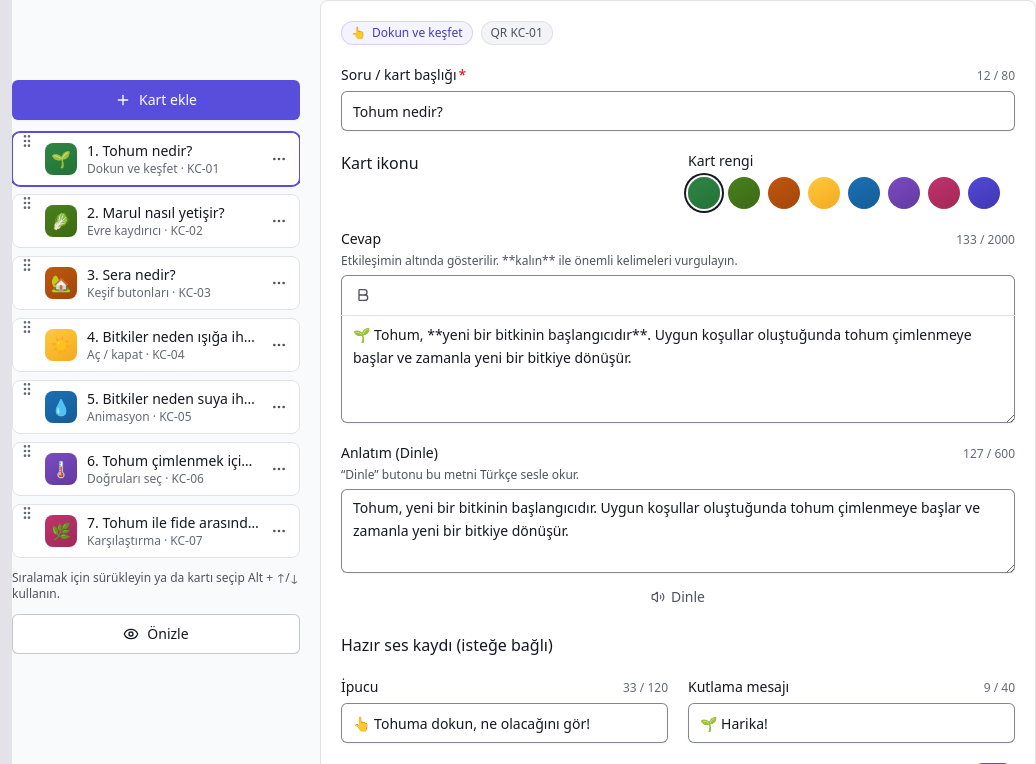
Test: CardsTab › deletes a card, never reuses its QR code and can undo from the toast
The width and height of the screenshot is (1036, 764).
Click the button named "Tohum nedir? için işlemler" at [279, 159], box [263, 143, 295, 175]
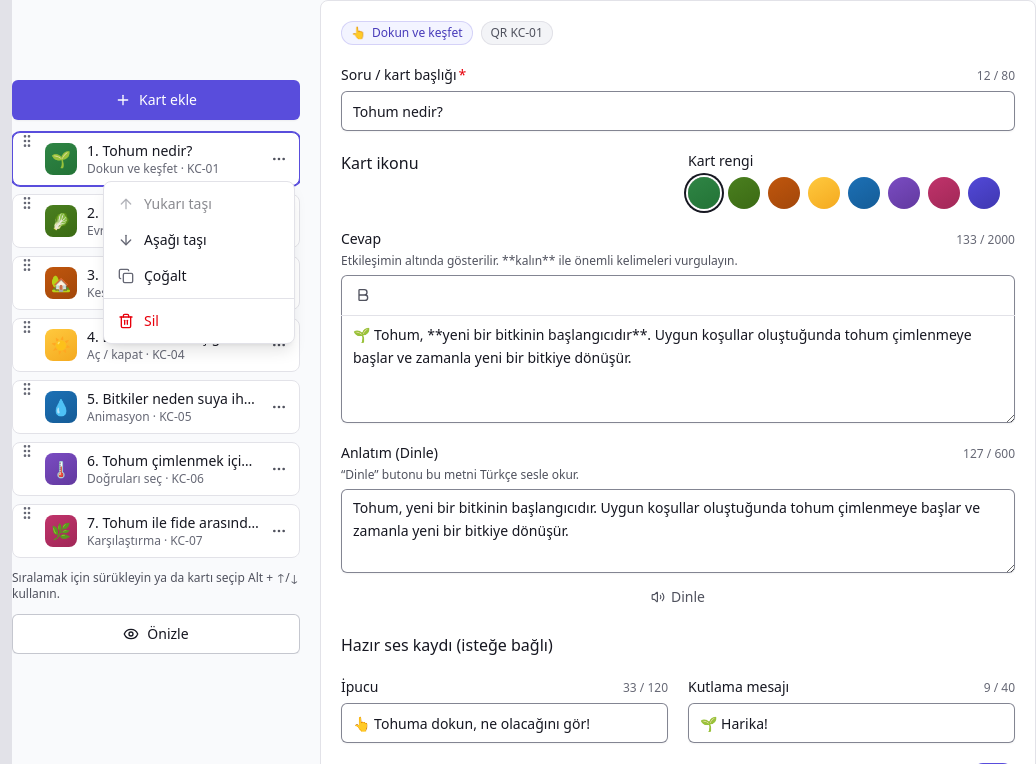
Click the menu item "Sil" at [126, 321], box [118, 311, 159, 330]
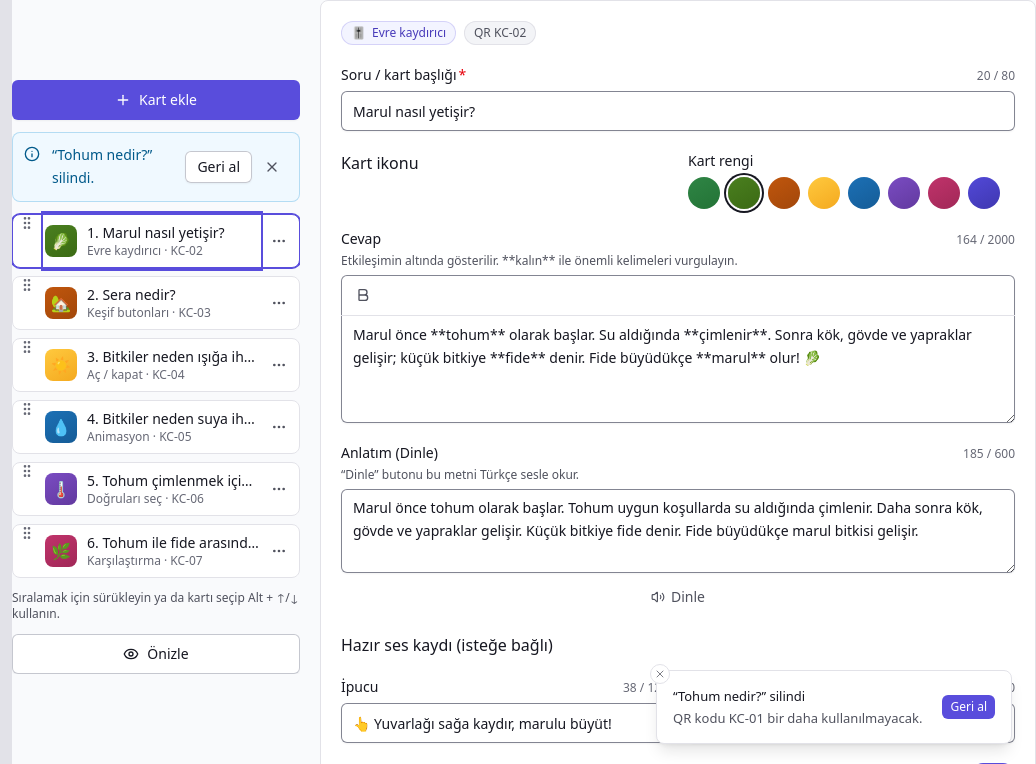
Expected: the text "QR kodu KC-01 bir daha kullanılmayacak." is shown, [673, 709, 922, 727]
Expected: the button named "Kapat" is shown, [650, 664, 670, 684]
Click the button "Geri al" next to "QR kodu KC-01 bir daha kullanılmayacak." at [969, 707], box [942, 695, 995, 719]
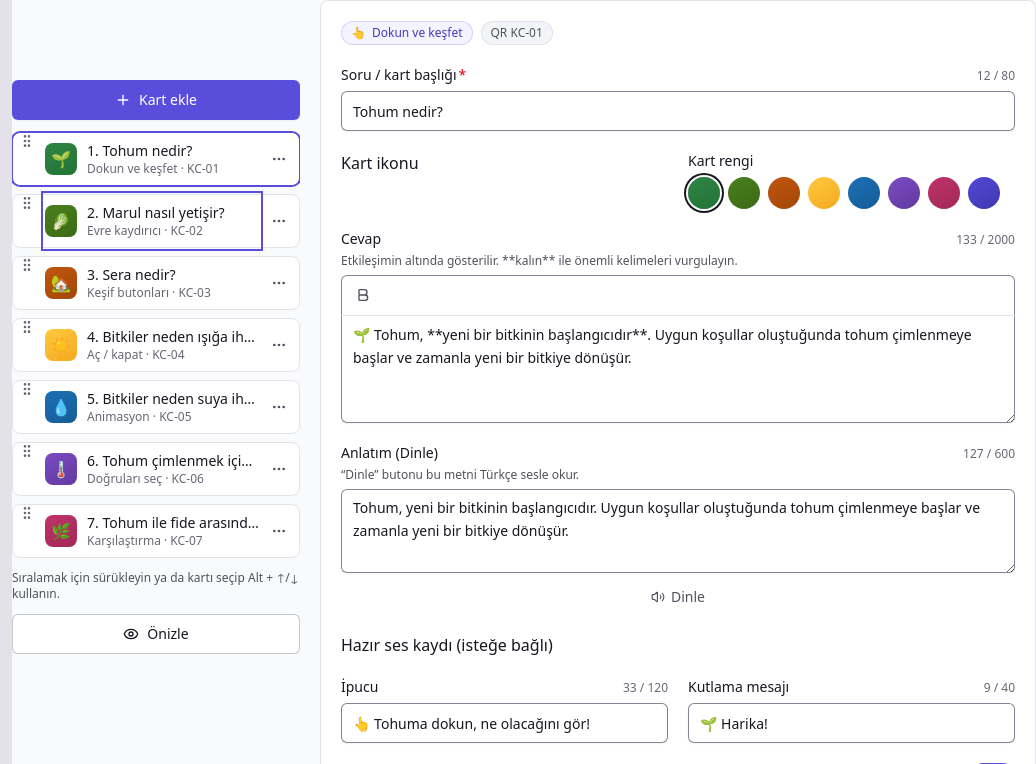
Expected: the button "Geri al" is gone
